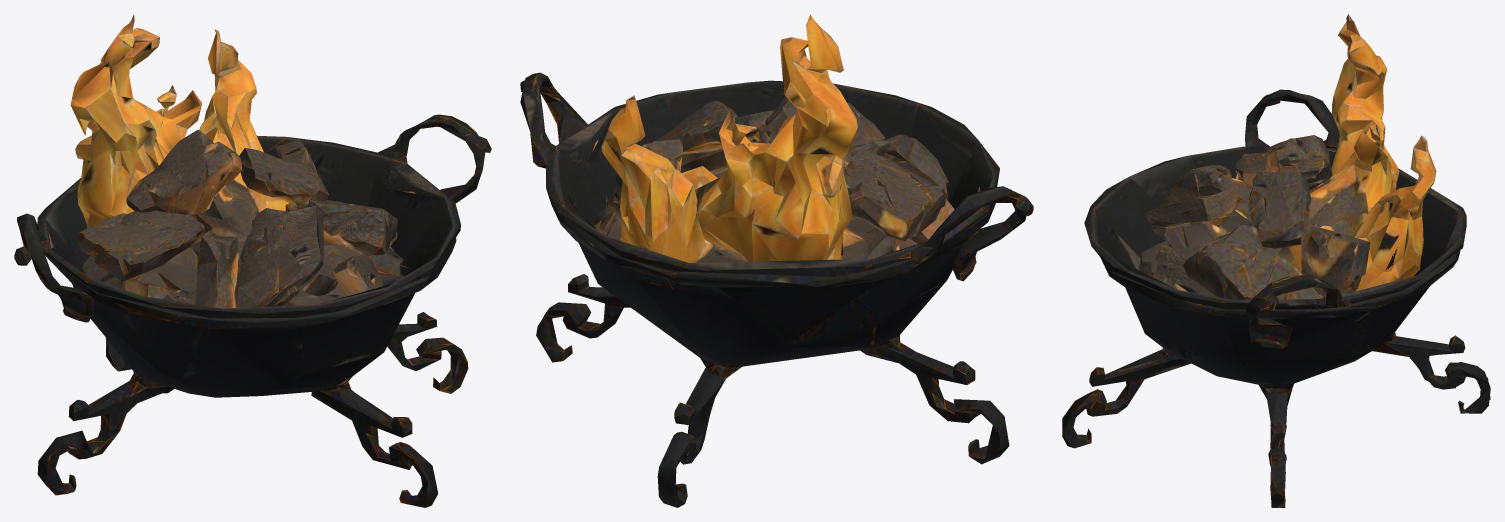
The model's file is decor-brazier.glb.
3 views of the same model, side by side, from view 1: azimuth 30°, elevation 25°; view 2: azimuth 150°, elevation 25°; view 3: azimuth 270°, elevation 25° (orthographic). The views are drawn at different scales.
Size of the model in its own units: 1.9 by 1.61 by 1.66.
Materials: 1 (1 with a texture image).
